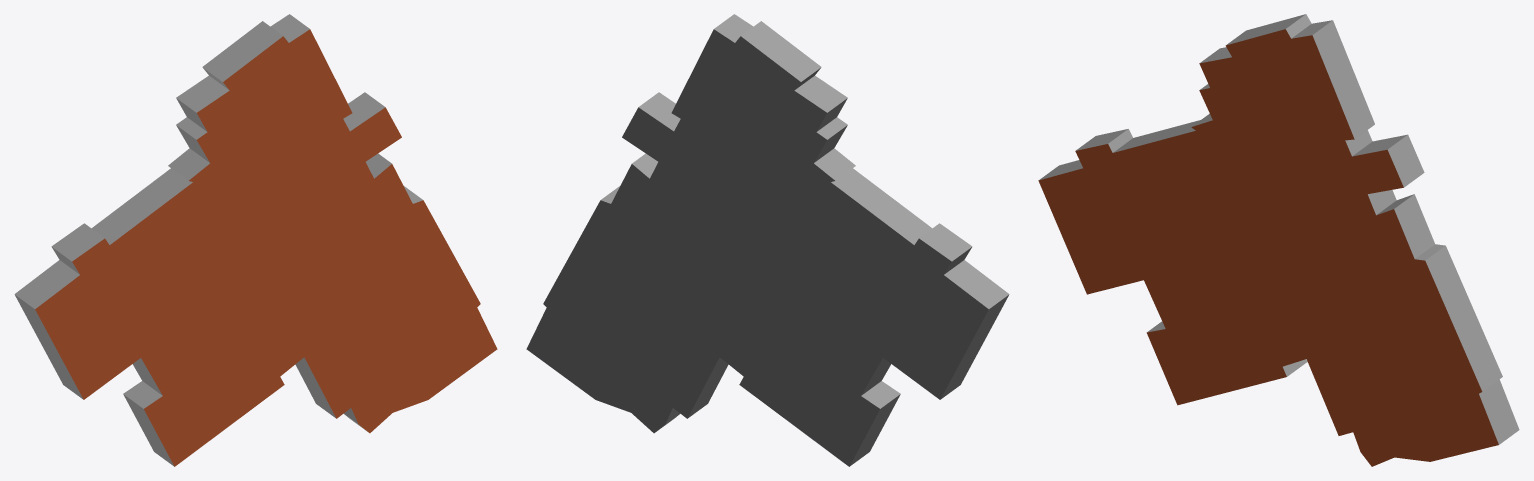
Rendered from construction_5740_assumed_A_Casa_h6m.obj.
3 views of the same model, side by side, from view 1: azimuth 30°, elevation 25°; view 2: azimuth 150°, elevation 25°; view 3: azimuth 330°, elevation 25° (orthographic).
Visible parts, largest first — view 1: construction_5740_assumed_A_Casa; view 2: construction_5740_assumed_A_Casa; view 3: construction_5740_assumed_A_Casa.
Part boxes in pixels (bbox=[...]): construction_5740_assumed_A_Casa: bbox=[14, 14, 497, 466]; construction_5740_assumed_A_Casa: bbox=[526, 14, 1009, 466]; construction_5740_assumed_A_Casa: bbox=[1038, 14, 1519, 466].
Bounding box in the file's own units: 77.57 × 67.14 × 6.
